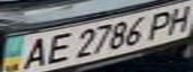2: (72, 26, 100, 60)
6: (121, 13, 157, 46)
7: (93, 20, 115, 54)
8: (109, 18, 133, 51)
A: (15, 34, 54, 71)
E: (39, 30, 75, 66)
H: (160, 2, 193, 35)
P: (142, 7, 181, 40)
